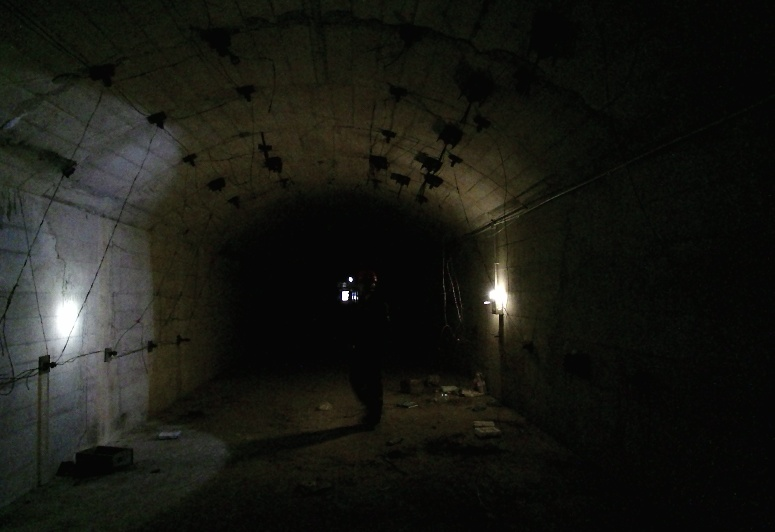person: (348, 269, 411, 431)
